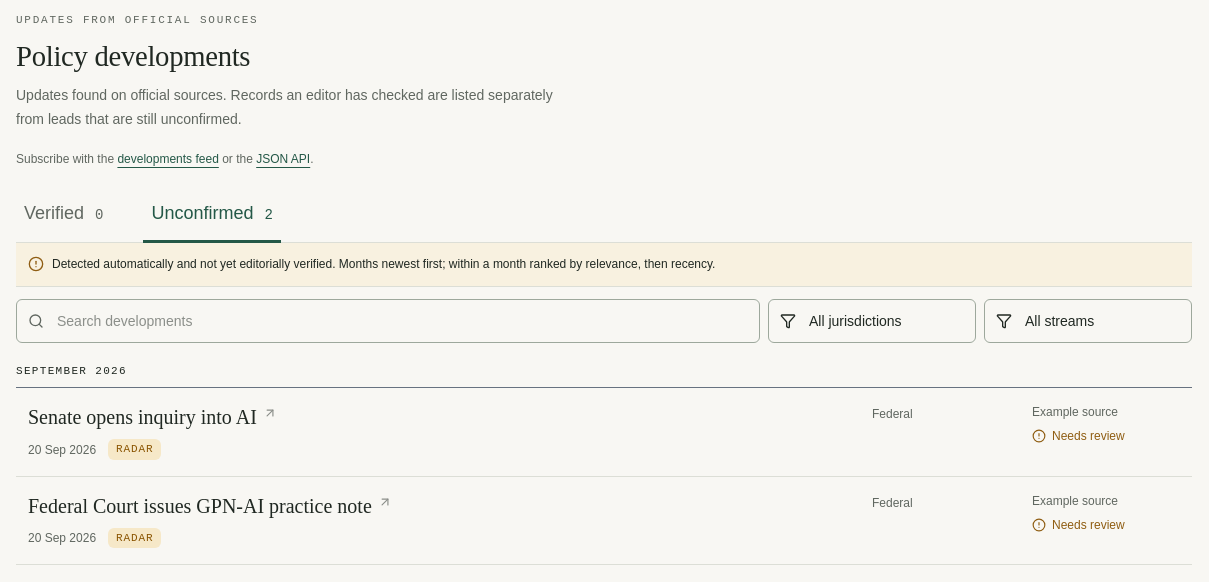
Scenario: filters the feed by stream
expect the link "Senate opens inquiry into AI" is shown: met, box top-left (28, 404), bottom-right (277, 430)
expect the link "Federal Court issues GPN-AI practice note" is shown: met, box top-left (28, 493), bottom-right (392, 519)
Select "Courts and tribunals" in the 2nd dropdown named "Filter by stream" at (1088, 321), box top-left (984, 299), bottom-right (1192, 343)
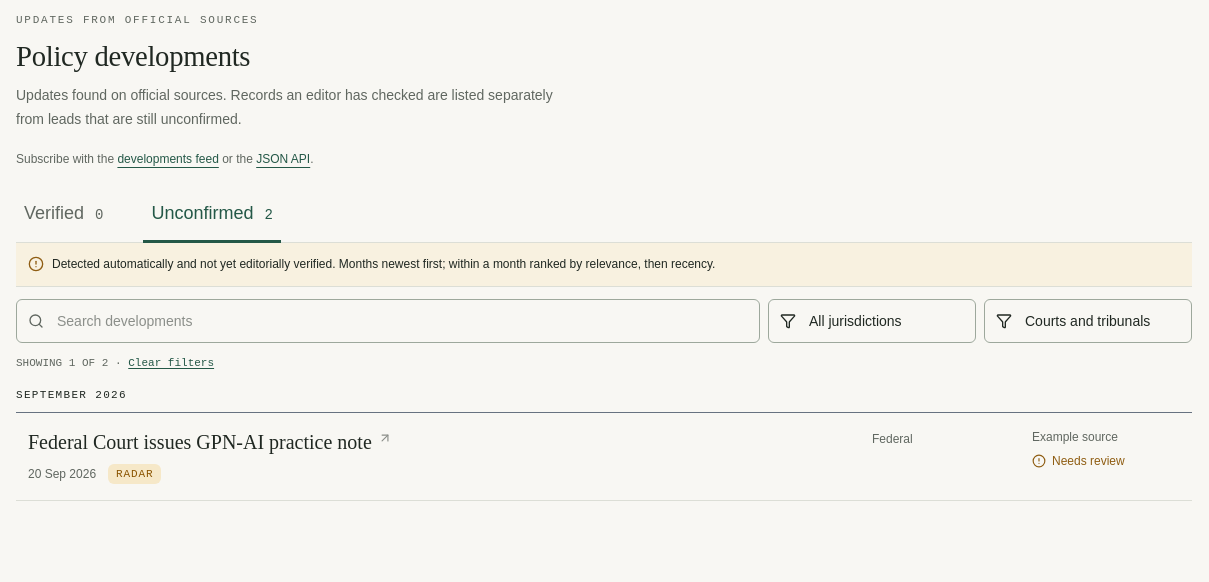
expect the link "Federal Court issues GPN-AI practice note" is shown: met, box top-left (28, 429), bottom-right (392, 455)
expect the link "Senate opens inquiry into AI" is gone: met
expect the text "Showing 1 of 2 · Clear filters" is shown: met, box top-left (16, 355), bottom-right (214, 371)
